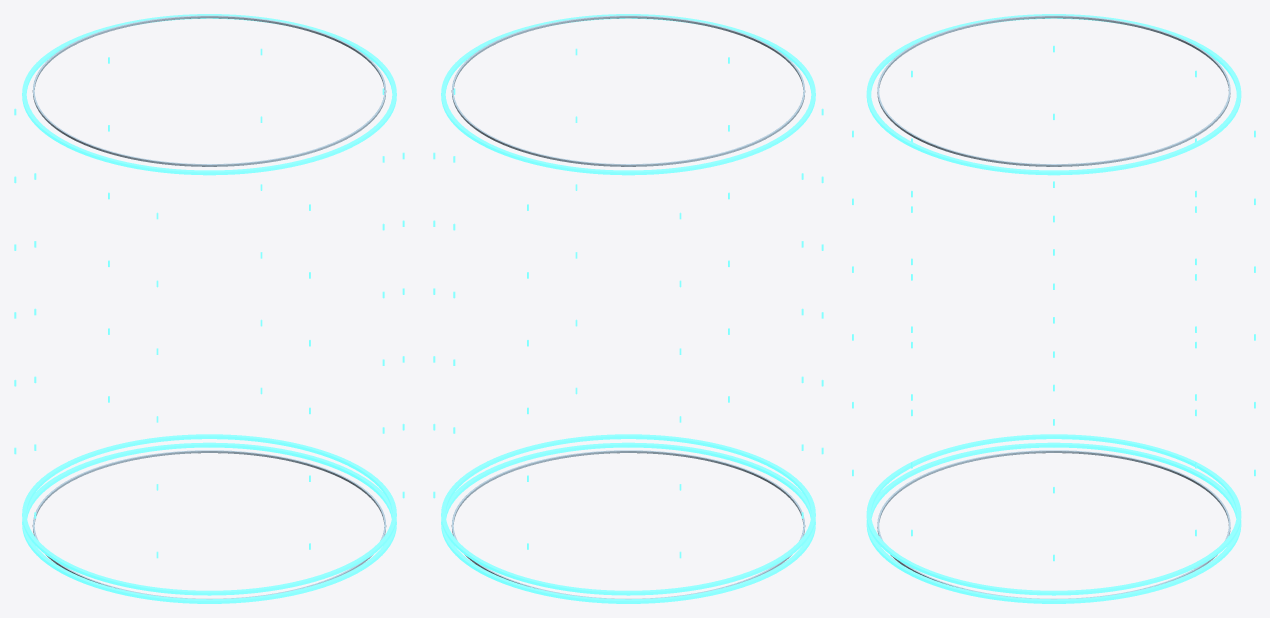
File: SM_Lab_ReactorLight.fbx
3 views of the same model, side by side, from view 1: azimuth 30°, elevation 25°; view 2: azimuth 150°, elevation 25°; view 3: azimuth 270°, elevation 25° (orthographic).
Visible parts, largest first — view 1: SM_Lab_ReactorLight; view 2: SM_Lab_ReactorLight; view 3: SM_Lab_ReactorLight.
Part boxes in pixels (x1=…): SM_Lab_ReactorLight: x1=14, y1=14, x2=404, y2=603; SM_Lab_ReactorLight: x1=433, y1=14, x2=823, y2=603; SM_Lab_ReactorLight: x1=852, y1=14, x2=1255, y2=603.
Bounding box in the file's own units: 432 × 432 × 515.
